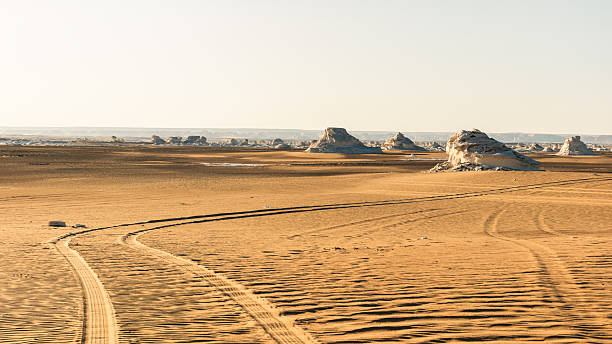vehicle_track: (49, 176, 611, 342), (120, 231, 317, 343), (483, 208, 611, 339), (54, 237, 117, 343)
